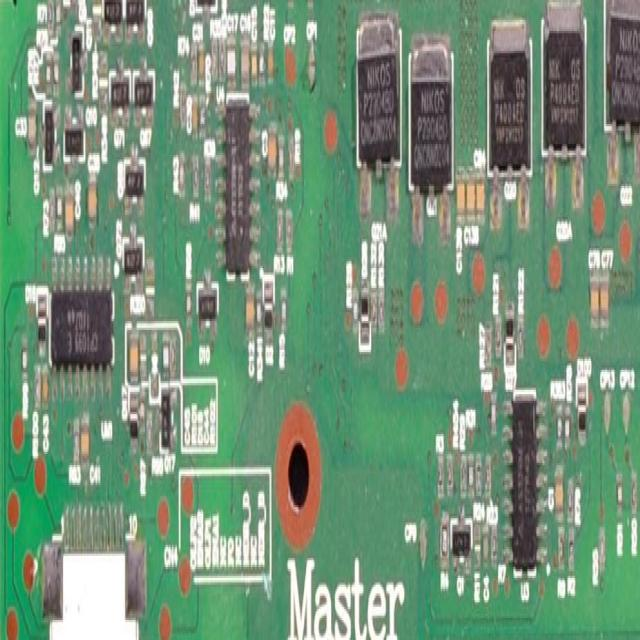IC: (51, 259, 113, 403), (503, 390, 548, 580), (217, 96, 259, 280)
capacitor: (551, 460, 567, 526), (454, 173, 466, 226), (465, 173, 477, 226), (80, 412, 90, 472), (589, 272, 600, 324), (245, 279, 255, 335), (27, 100, 38, 150), (128, 328, 138, 383), (268, 126, 277, 178), (65, 188, 74, 238), (161, 334, 170, 382), (88, 175, 96, 228), (477, 168, 485, 219), (191, 95, 200, 136), (198, 40, 206, 86), (41, 365, 49, 409), (251, 44, 258, 89), (267, 46, 276, 78), (483, 530, 489, 572), (600, 277, 607, 312), (305, 0, 314, 9), (286, 0, 295, 2)
resistor: (98, 51, 108, 115), (378, 281, 388, 344), (440, 516, 450, 570), (598, 531, 608, 582), (286, 202, 294, 262), (558, 530, 568, 578), (22, 334, 31, 386), (190, 157, 200, 201), (275, 206, 283, 261), (475, 447, 483, 501), (185, 277, 192, 338), (203, 160, 212, 207), (211, 33, 219, 85), (177, 153, 186, 199), (56, 186, 64, 237), (288, 128, 294, 194), (486, 323, 494, 372), (632, 470, 640, 518), (495, 316, 504, 358), (468, 450, 475, 504), (491, 520, 498, 574), (567, 529, 576, 571), (218, 38, 226, 85), (446, 450, 454, 497), (49, 188, 56, 241), (616, 467, 623, 520), (474, 520, 481, 572), (92, 0, 103, 33), (170, 334, 177, 384), (352, 290, 359, 339), (73, 416, 80, 465), (53, 51, 60, 99), (555, 407, 563, 449), (258, 37, 265, 84), (279, 135, 286, 182), (281, 286, 288, 333), (484, 454, 491, 501), (516, 317, 524, 358), (190, 42, 197, 87), (460, 456, 467, 500), (565, 483, 573, 521), (437, 454, 444, 497), (256, 290, 262, 340), (372, 281, 377, 340), (181, 82, 187, 131), (33, 363, 40, 405), (564, 405, 571, 446), (54, 0, 61, 38), (46, 51, 52, 95), (46, 0, 54, 31), (147, 414, 153, 455), (236, 0, 244, 2), (231, 0, 236, 2)
transistor: (408, 34, 455, 192), (486, 20, 532, 178), (542, 0, 587, 161), (356, 13, 400, 168), (605, 0, 640, 131), (121, 232, 149, 283), (124, 152, 145, 204), (72, 24, 85, 100), (134, 69, 154, 118), (452, 520, 472, 564), (161, 394, 174, 460), (111, 71, 131, 112), (64, 128, 86, 162), (44, 106, 55, 166), (126, 0, 146, 31), (105, 0, 125, 29), (65, 0, 86, 2)
